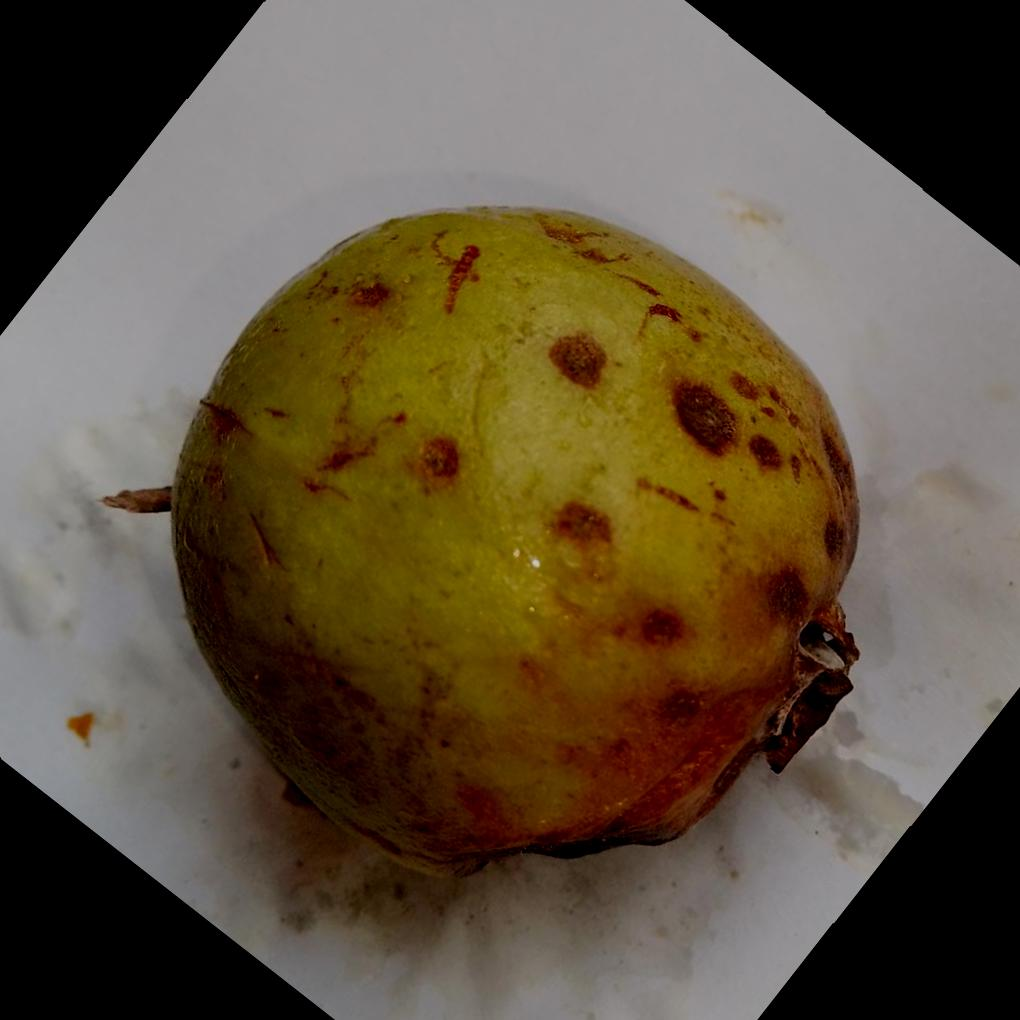FreshOrange: (109, 206, 858, 880)
